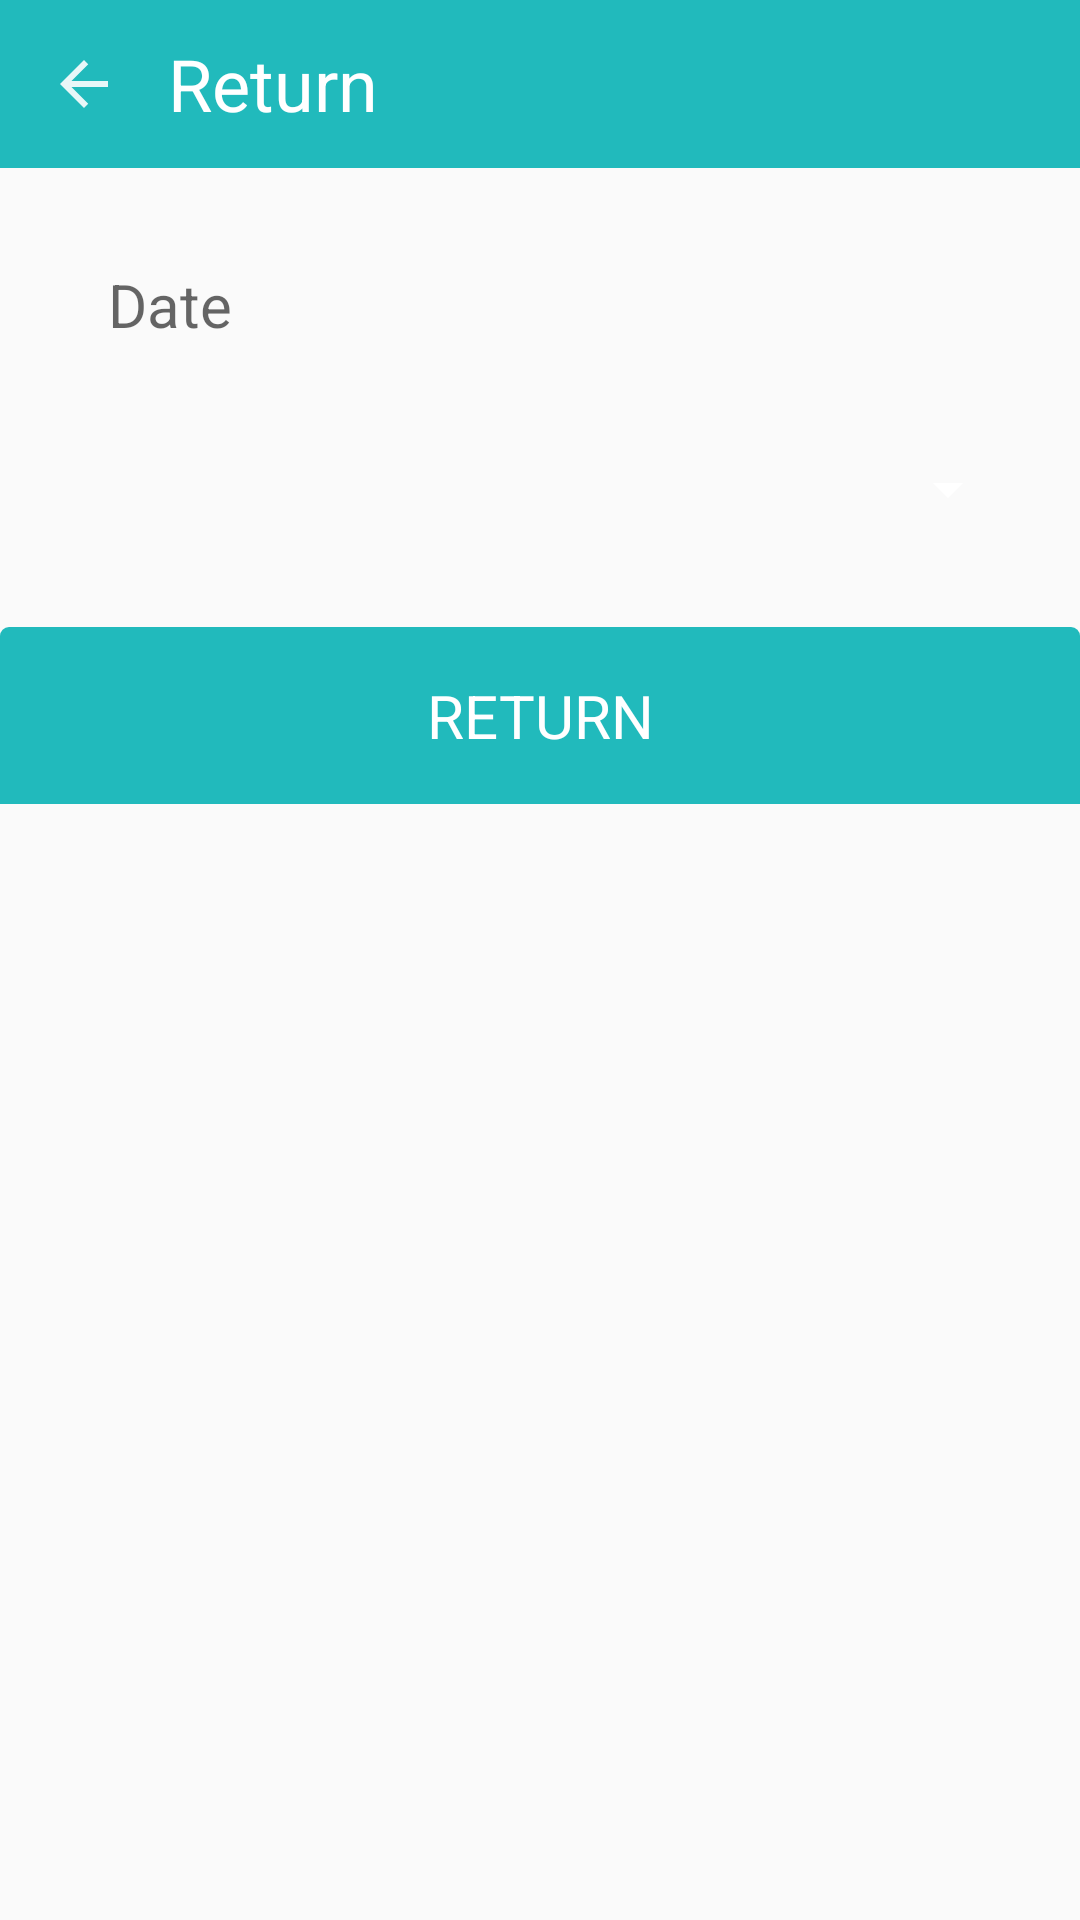

Screen size 1080 x 1920. Icon name, then its box in pixels as (x1, y1, x2, y2):
arrow back: (60, 60, 108, 108)
